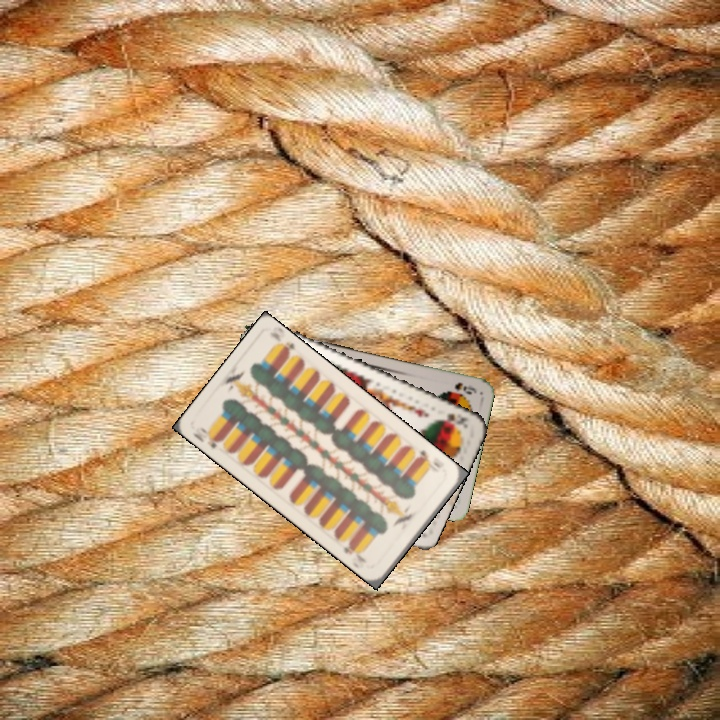E10: (188, 423, 225, 451), (412, 445, 442, 475)
SK: (436, 410, 472, 431)
SO: (450, 378, 479, 397)
